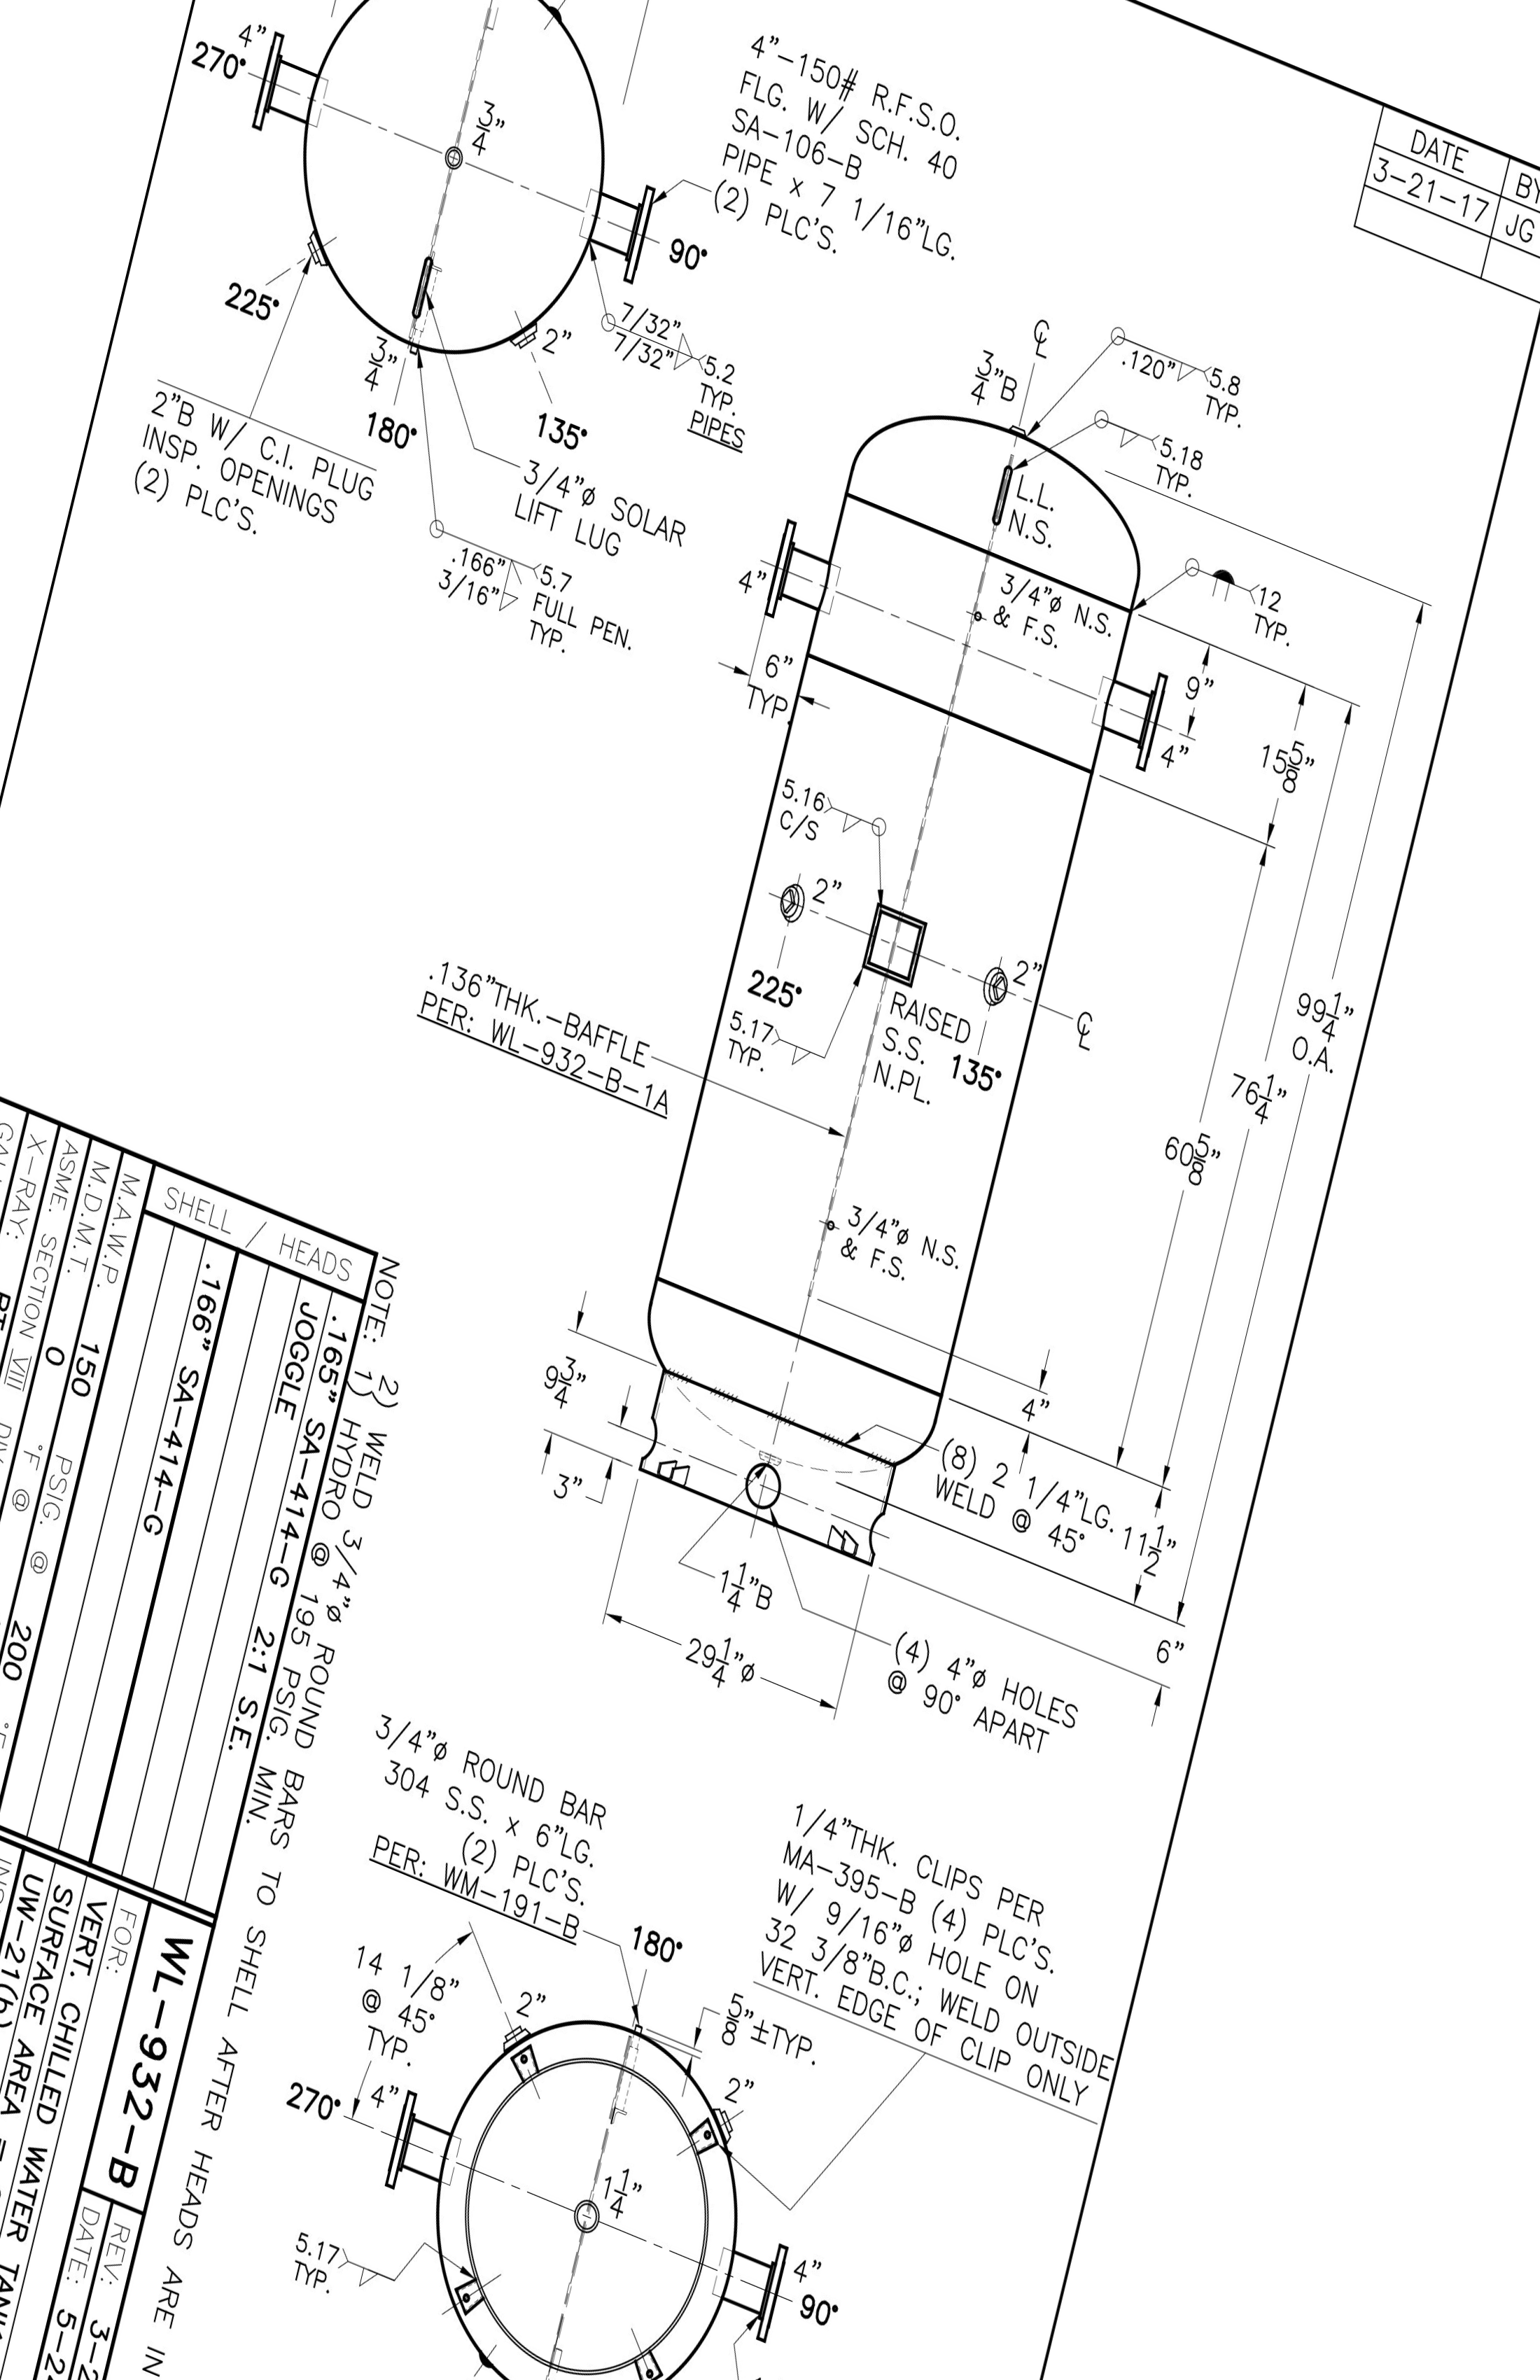Nozzle: (709, 486, 853, 652), (571, 113, 682, 321), (1067, 630, 1186, 821), (678, 2200, 834, 2337), (345, 2056, 482, 2203), (238, 21, 354, 156)
